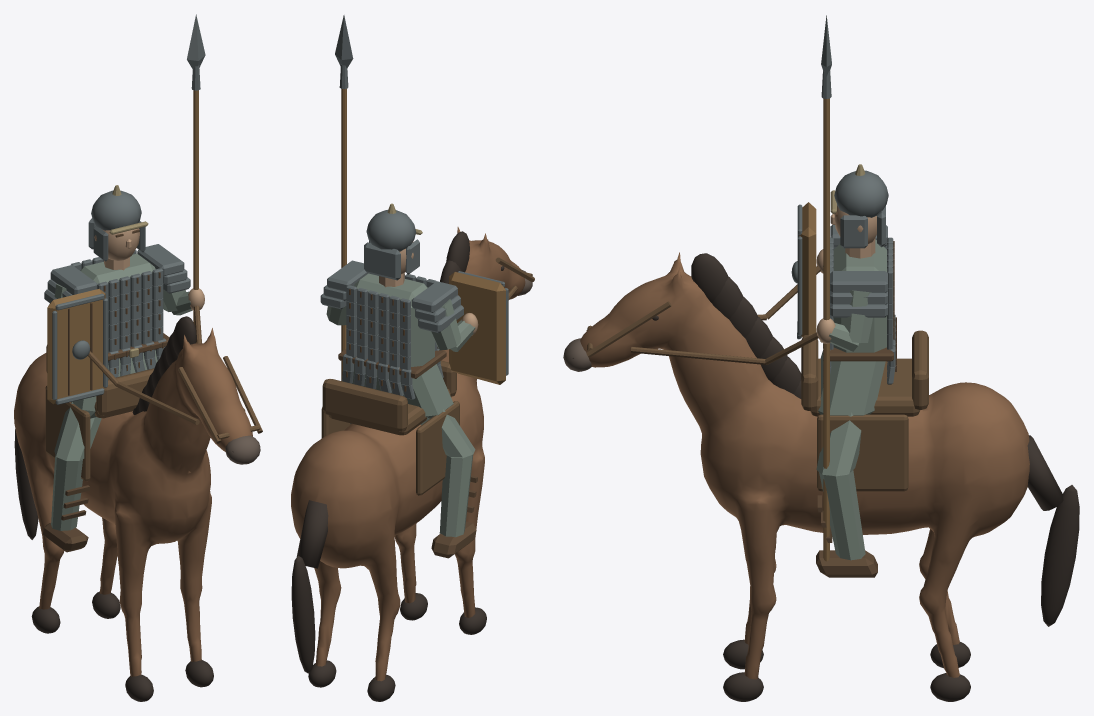
The model's file is han-cavalry.glb.
3 views of the same model, side by side, from view 1: azimuth 30°, elevation 25°; view 2: azimuth 150°, elevation 25°; view 3: azimuth 270°, elevation 25° (orthographic). The views are drawn at different scales.
Visible parts, largest first — view 1: horse-chestnut, rider-iron-lamellar, rider-spear-wood, saddle-leather, rider-linen-tunic, horse-mane-hooves, rider-leather, rider-skin, horse-muzzle; view 2: horse-chestnut, rider-iron-lamellar, rider-linen-tunic, saddle-leather, horse-mane-hooves, rider-spear-wood, rider-leather, rider-skin; view 3: horse-chestnut, horse-mane-hooves, saddle-leather, rider-linen-tunic, rider-iron-lamellar, rider-spear-wood, rider-leather, rider-skin.
Part boxes in pixels (left/top/right/bottom): horse-chestnut: left=14, top=328, right=252, bottom=676; rider-iron-lamellar: left=44, top=14, right=205, bottom=404; rider-spear-wood: left=47, top=90, right=198, bottom=404; saddle-leather: left=45, top=305, right=262, bottom=481; rider-linen-tunic: left=51, top=253, right=192, bottom=530; horse-mane-hooves: left=14, top=316, right=259, bottom=701; rider-leather: left=42, top=229, right=169, bottom=552; rider-skin: left=94, top=228, right=204, bottom=310; horse-muzzle: left=225, top=435, right=260, bottom=464; horse-chestnut: left=291, top=227, right=525, bottom=681; rider-iron-lamellar: left=320, top=15, right=508, bottom=399; rider-linen-tunic: left=326, top=273, right=475, bottom=537; saddle-leather: left=321, top=257, right=534, bottom=495; horse-mane-hooves: left=291, top=231, right=504, bottom=701; rider-spear-wood: left=341, top=88, right=505, bottom=384; rider-leather: left=338, top=289, right=477, bottom=558; rider-skin: left=379, top=241, right=478, bottom=335; horse-chestnut: left=580, top=252, right=1029, bottom=679; horse-mane-hooves: left=572, top=253, right=1079, bottom=701; saddle-leather: left=586, top=265, right=928, bottom=491; rider-linen-tunic: left=816, top=239, right=886, bottom=560; rider-iron-lamellar: left=791, top=15, right=895, bottom=384; rider-spear-wood: left=800, top=98, right=829, bottom=561; rider-leather: left=799, top=211, right=896, bottom=577; rider-skin: left=816, top=205, right=876, bottom=343.
Bounding box in the file's own units: 0.885 × 3.23 × 2.14.
